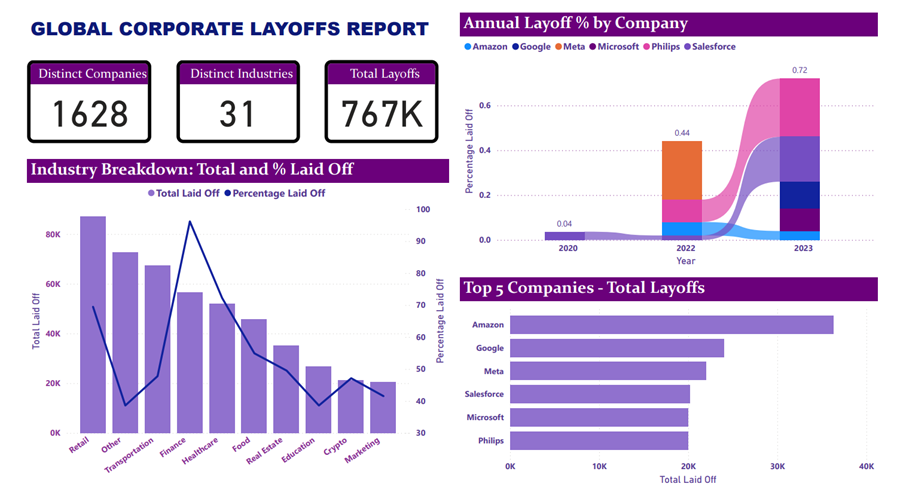

The dashboard page shown, as its layout file describes it:
{"tool":"powerbi","page":{"name":"Page 1","canvas":[1280,720],"ordinal":0},"visuals":[{"type":"card","title":"Distinct Companies","fields":{"Values":["Count(Sheet1.company)"]},"box":[20.6,79.6,182.5,122.1],"z":0},{"type":"clusteredBarChart","title":"Top 5 Companies - Total Layoffs","fields":{"Category":["Sheet1.company"],"Y":["Sum(Sheet1.total_laid_off)"]},"box":[655.9,399.3,612,310.1],"z":1000},{"type":"lineStackedColumnComboChart","title":"Industry Breakdown: Total and % Laid Off","fields":{"Category":["Sheet1.industry"],"Y":["Sum(Sheet1.total_laid_off)"],"Y2":["Sum(Sheet1.percentage_laid_off)"]},"box":[20.6,225,618.9,484.4],"z":2000},{"type":"card","title":"Distinct Industries","fields":{"Values":["Count(Sheet1.industry)"]},"box":[240.1,79.6,181.1,122.1],"z":3000},{"type":"ribbonChart","title":"Annual Layoff % by Company","fields":{"Category":["Sheet1.date.Variation.Date Hierarchy.Year"],"Series":["Sheet1.company"],"Y":["Sum(Sheet1.percentage_laid_off)"]},"box":[655.9,9.6,612,378.7],"z":4000},{"type":"textbox","box":[20.6,9.6,618.9,70],"z":5000},{"type":"card","title":"Total Layoffs","fields":{"Values":["Sum(Sheet1.total_laid_off)"]},"box":[456.9,79.6,167.4,122.1],"z":6000}]}

Visuals, with their boxes in screenshot pixels (x1, y1, x2, y2), scaled from the page's 1280x720 canvas onto the 900x499 screenshot:
"Distinct Companies" card: left=14, top=55, right=143, bottom=140
"Top 5 Companies - Total Layoffs" clusteredBarChart: left=461, top=277, right=891, bottom=492
"Industry Breakdown: Total and % Laid Off" lineStackedColumnComboChart: left=14, top=156, right=450, bottom=492
"Distinct Industries" card: left=169, top=55, right=296, bottom=140
"Annual Layoff % by Company" ribbonChart: left=461, top=7, right=891, bottom=269
textbox: left=14, top=7, right=450, bottom=55
"Total Layoffs" card: left=321, top=55, right=439, bottom=140
